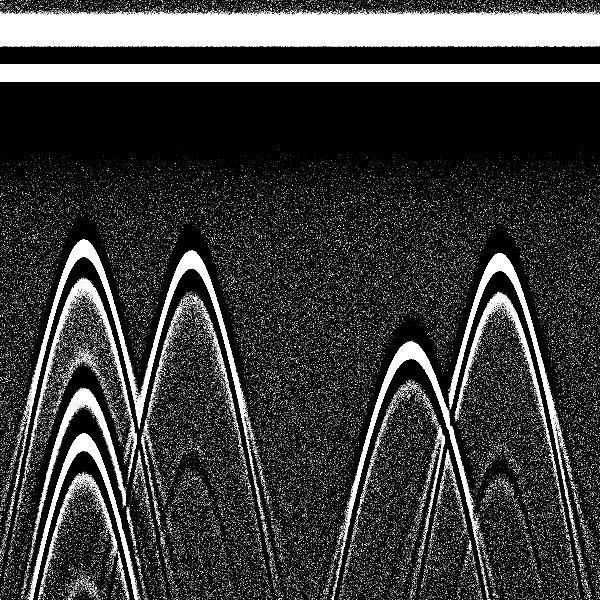pipe: (365, 4, 451, 408), (453, 4, 546, 334), (36, 5, 130, 327), (147, 6, 235, 331)
